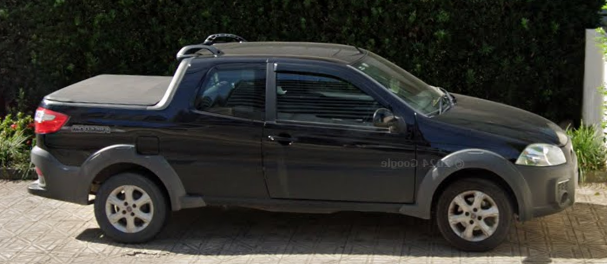car: (29, 42, 579, 253)
